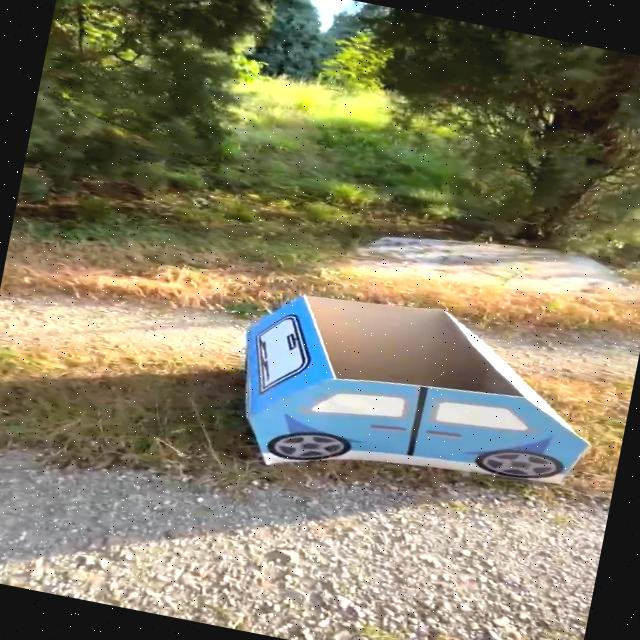blue_car: (172, 259, 635, 546)
